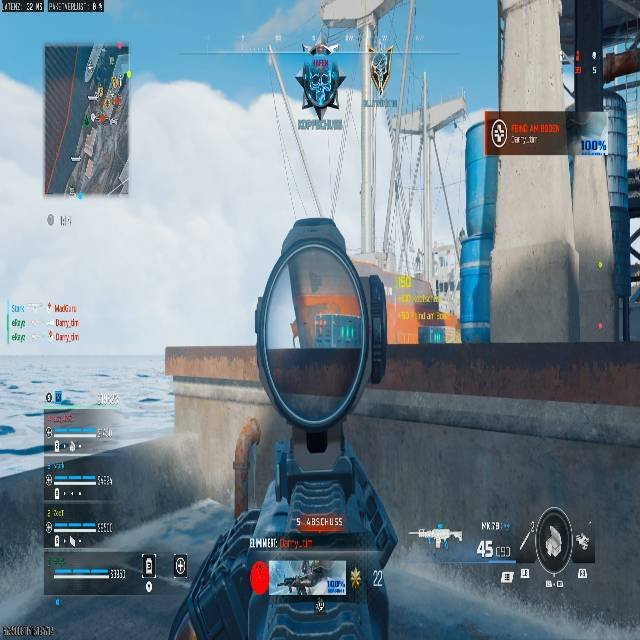head: (309, 43, 330, 56)
player: (294, 43, 346, 120)
